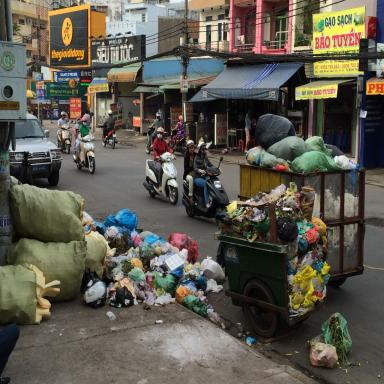plasticbag: (215, 183, 331, 322), (6, 188, 92, 260), (4, 229, 91, 300), (279, 138, 357, 170), (323, 312, 359, 362), (290, 148, 342, 182), (79, 227, 109, 281), (254, 112, 296, 148), (92, 210, 138, 236), (308, 333, 335, 370), (246, 147, 286, 167), (200, 252, 225, 282)
